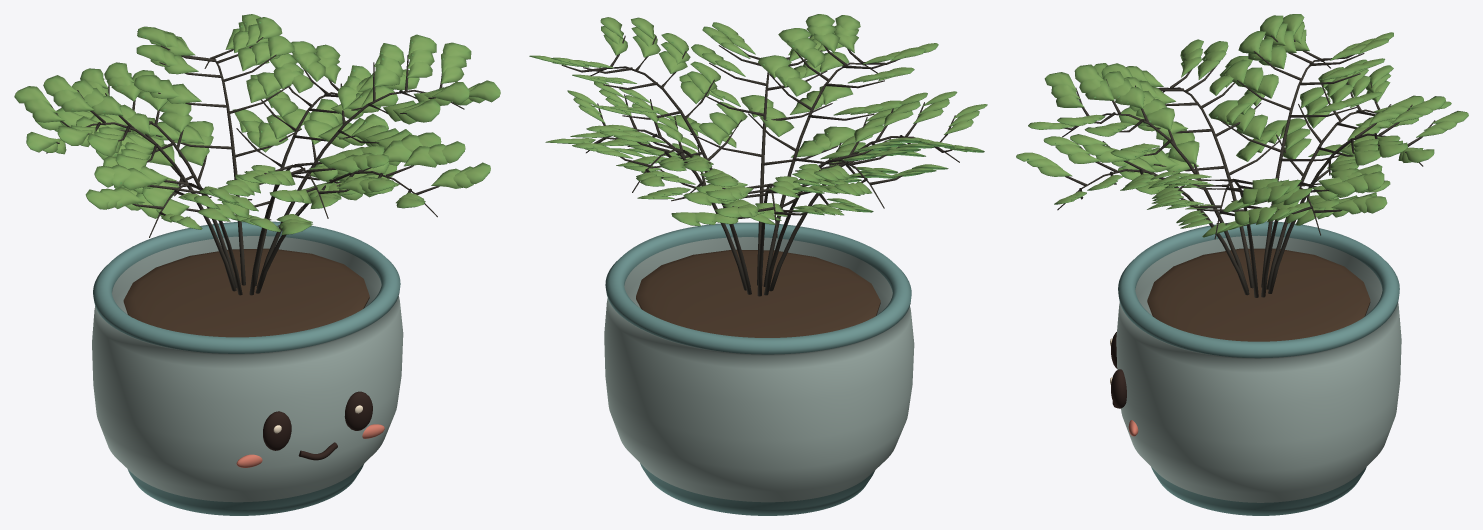
File: maidenhair-fern-v1.glb
3 views of the same model, side by side, from view 1: azimuth 30°, elevation 25°; view 2: azimuth 150°, elevation 25°; view 3: azimuth 270°, elevation 25° (orthographic). The views are drawn at different scales.
Visible parts, largest first — view 1: Wheel-thrown ceramic, Maidenhair black wires and fanlets, Soil, Eye, Eye.001; view 2: Wheel-thrown ceramic, Maidenhair black wires and fanlets, Soil; view 3: Wheel-thrown ceramic, Maidenhair black wires and fanlets, Soil, Eye.001.
Part boxes in pixels (x1,y1,x2,y2): Wheel-thrown ceramic: (92,221,403,515); Maidenhair black wires and fanlets: (14,14,500,295); Soil: (123,248,369,337); Eye: (263,411,291,450); Eye.001: (344,391,372,430); Wheel-thrown ceramic: (604,222,914,515); Maidenhair black wires and fanlets: (529,14,987,296); Soil: (636,249,880,337); Wheel-thrown ceramic: (1116,221,1401,515); Maidenhair black wires and fanlets: (1016,14,1468,297); Soil: (1147,248,1370,341); Eye.001: (1111,369,1126,408).
Size of the model in its own units: 2.55 by 2.16 by 2.37.
